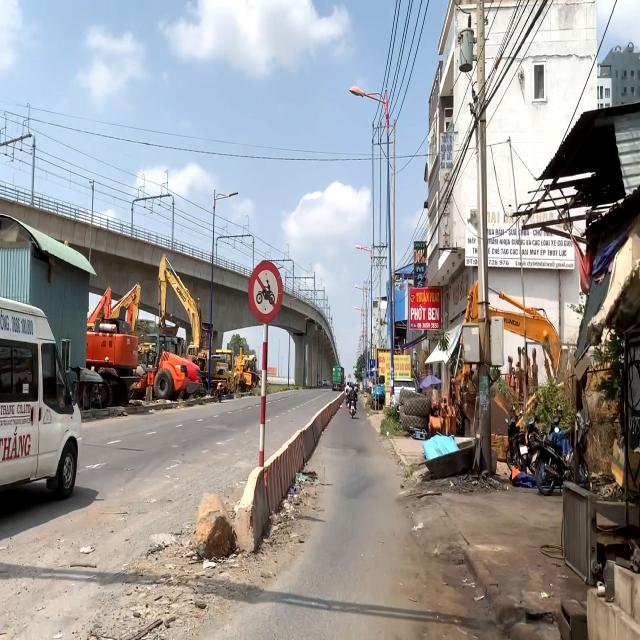P.104: (248, 260, 283, 322)
